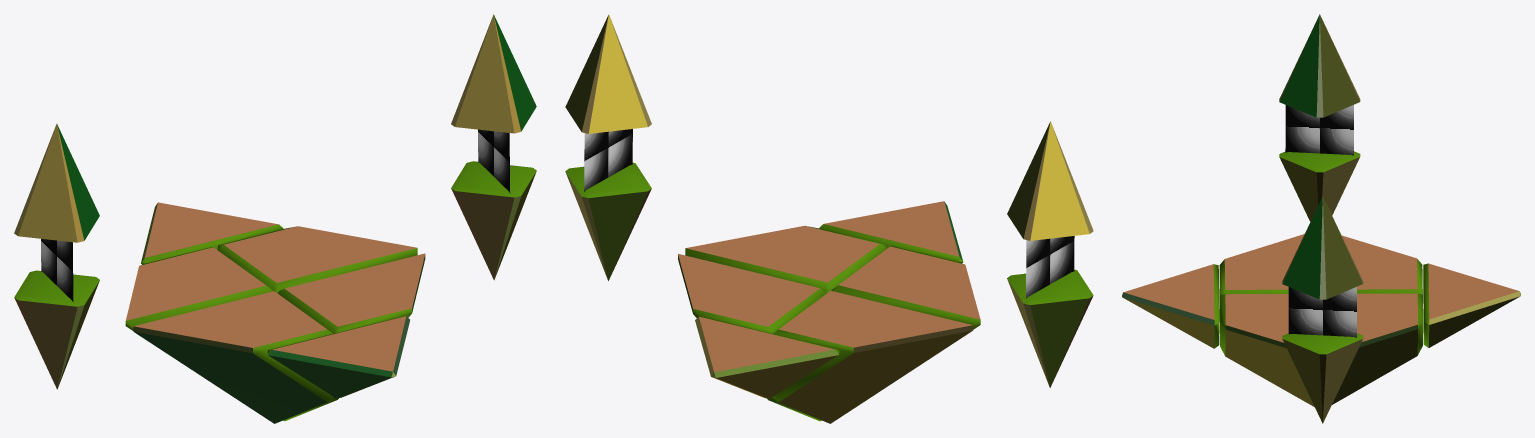
File: Swerve Star.dae
The picture shows the model from 3 angles, left to right: view 1: azimuth 30°, elevation 25°; view 2: azimuth 150°, elevation 25°; view 3: azimuth 270°, elevation 25°; orthographic projection. The views are drawn at different scales.
Visible parts, largest first — view 1: DrawCall_0183, DrawCall_0184, DrawCall_0247, DrawCall_0246; view 2: DrawCall_0183, DrawCall_0184, DrawCall_0246, DrawCall_0247; view 3: DrawCall_0183, DrawCall_0184, DrawCall_0247, DrawCall_0246.
Boxes of the visible parts, x1,y1,x2,y2 form: DrawCall_0183: [14, 14, 536, 423]; DrawCall_0184: [14, 161, 536, 421]; DrawCall_0247: [41, 239, 73, 301]; DrawCall_0246: [478, 129, 510, 193]; DrawCall_0183: [565, 14, 1093, 423]; DrawCall_0184: [565, 162, 1093, 421]; DrawCall_0246: [584, 129, 632, 191]; DrawCall_0247: [1026, 236, 1074, 298]; DrawCall_0183: [1122, 14, 1520, 423]; DrawCall_0184: [1213, 151, 1429, 355]; DrawCall_0247: [1285, 105, 1353, 155]; DrawCall_0246: [1288, 287, 1356, 337].
Bounding box in the file's own units: 58.21 × 37.58 × 45.22.
